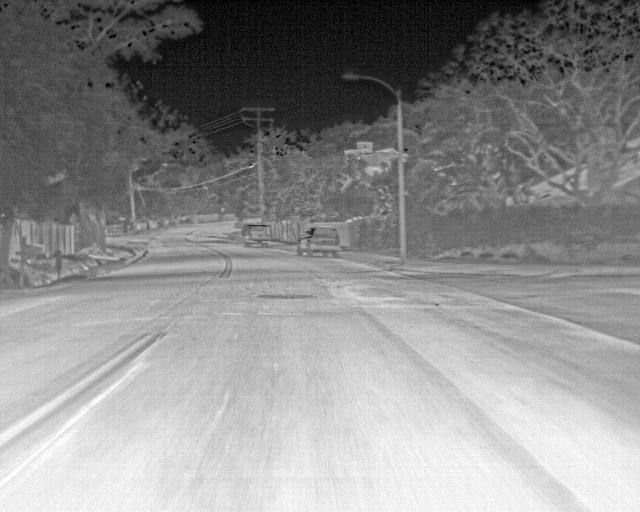car: (296, 227, 341, 259), (241, 223, 273, 248)
